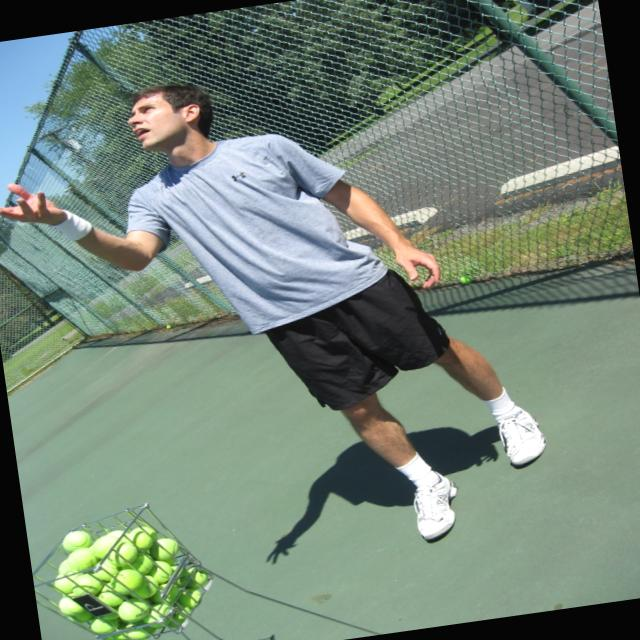Tennis Ball: (48, 516, 223, 640), (49, 521, 219, 640), (60, 527, 90, 550), (63, 532, 91, 550)
